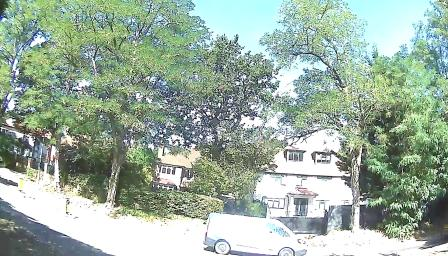Cars: (204, 206, 304, 256)
